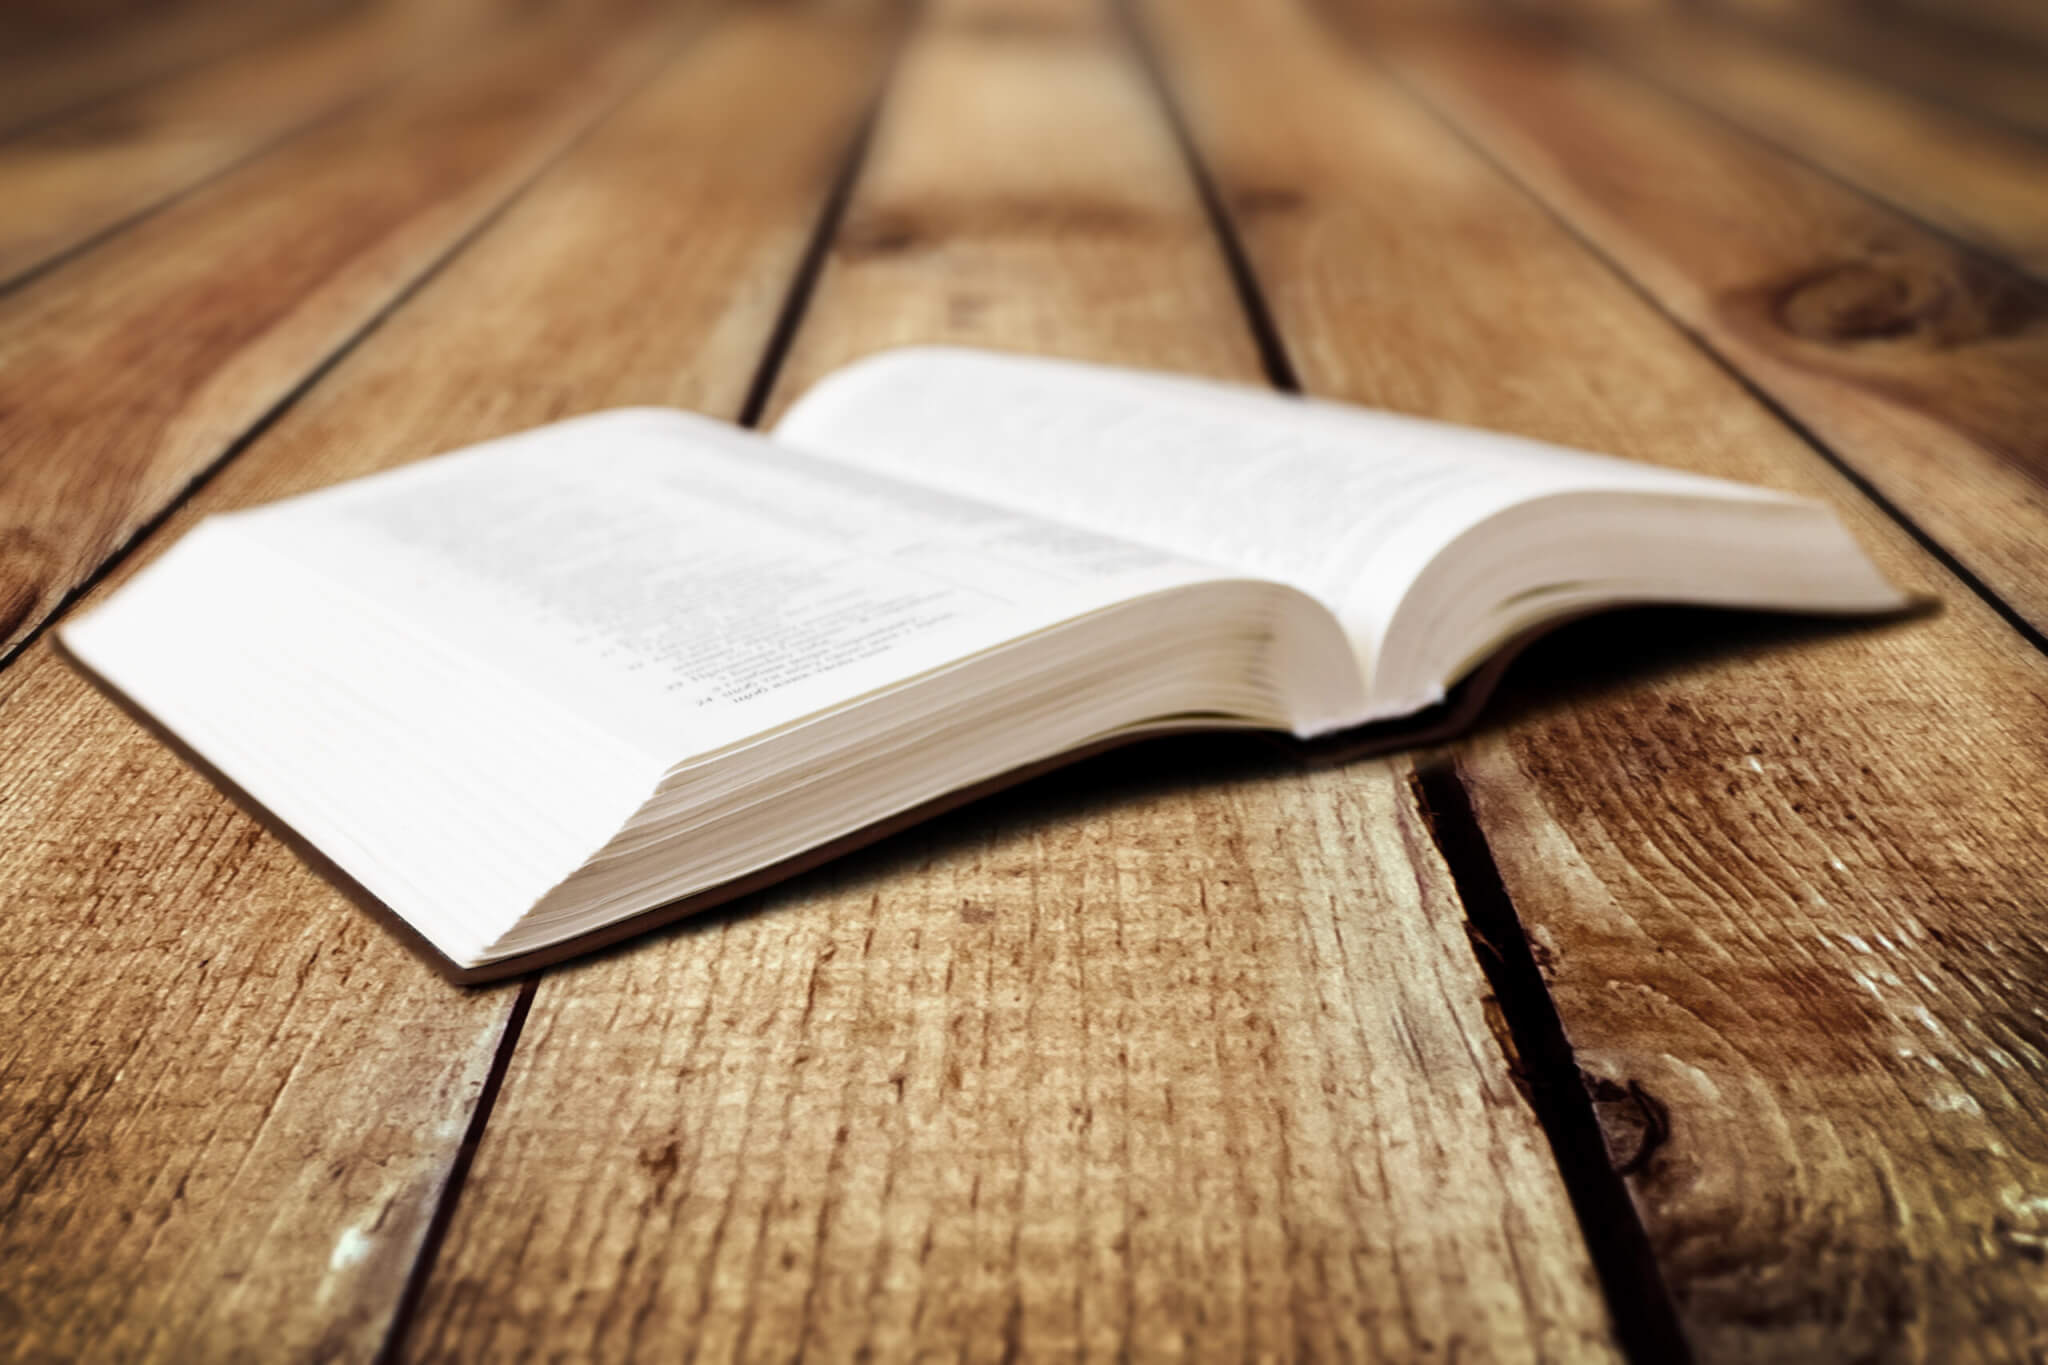buku: (65, 355, 1944, 989)
